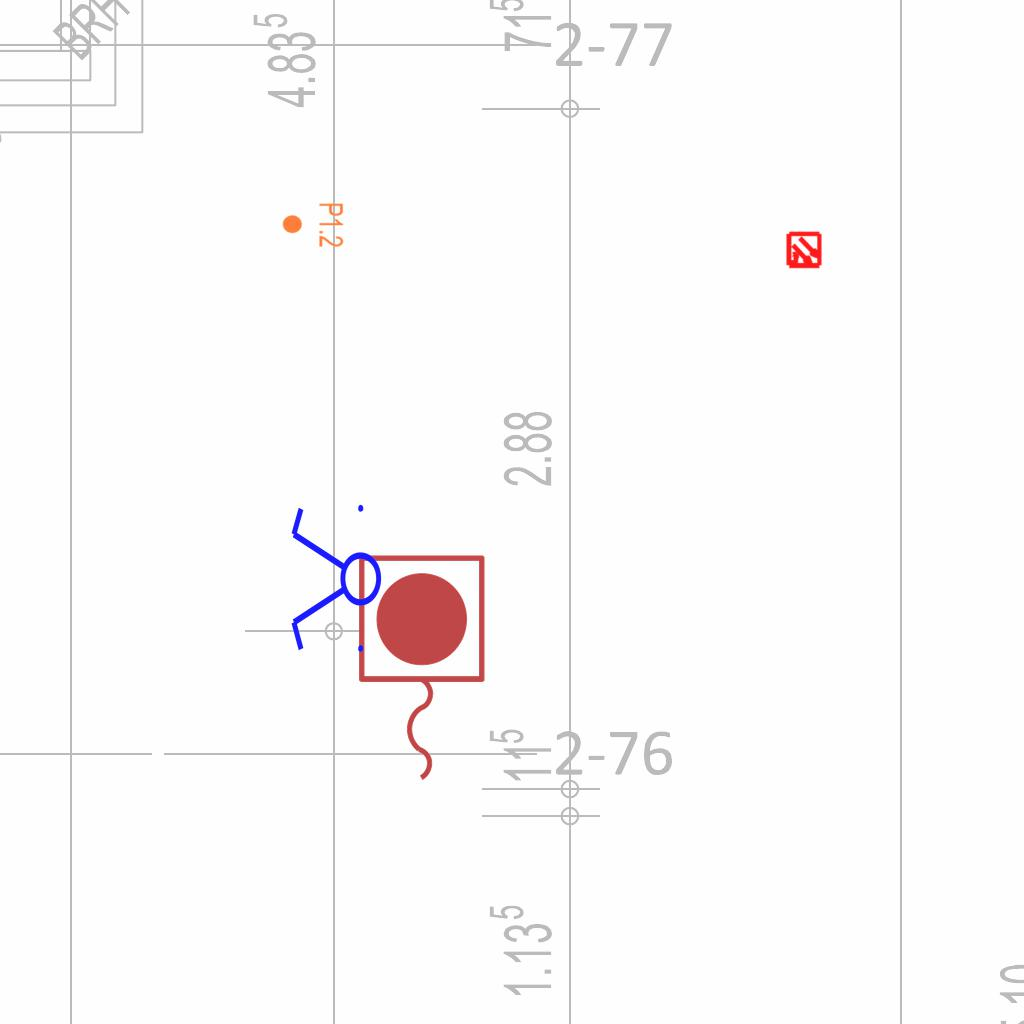Downlight_LED_Einbauleuchten_Flur: (281, 202, 345, 248)
OT_Multisensormelder_(Kombination_RMO_WMD): (776, 223, 832, 279)
Serienschalter: (287, 496, 383, 664)
Zugtaster: (348, 547, 492, 791)
